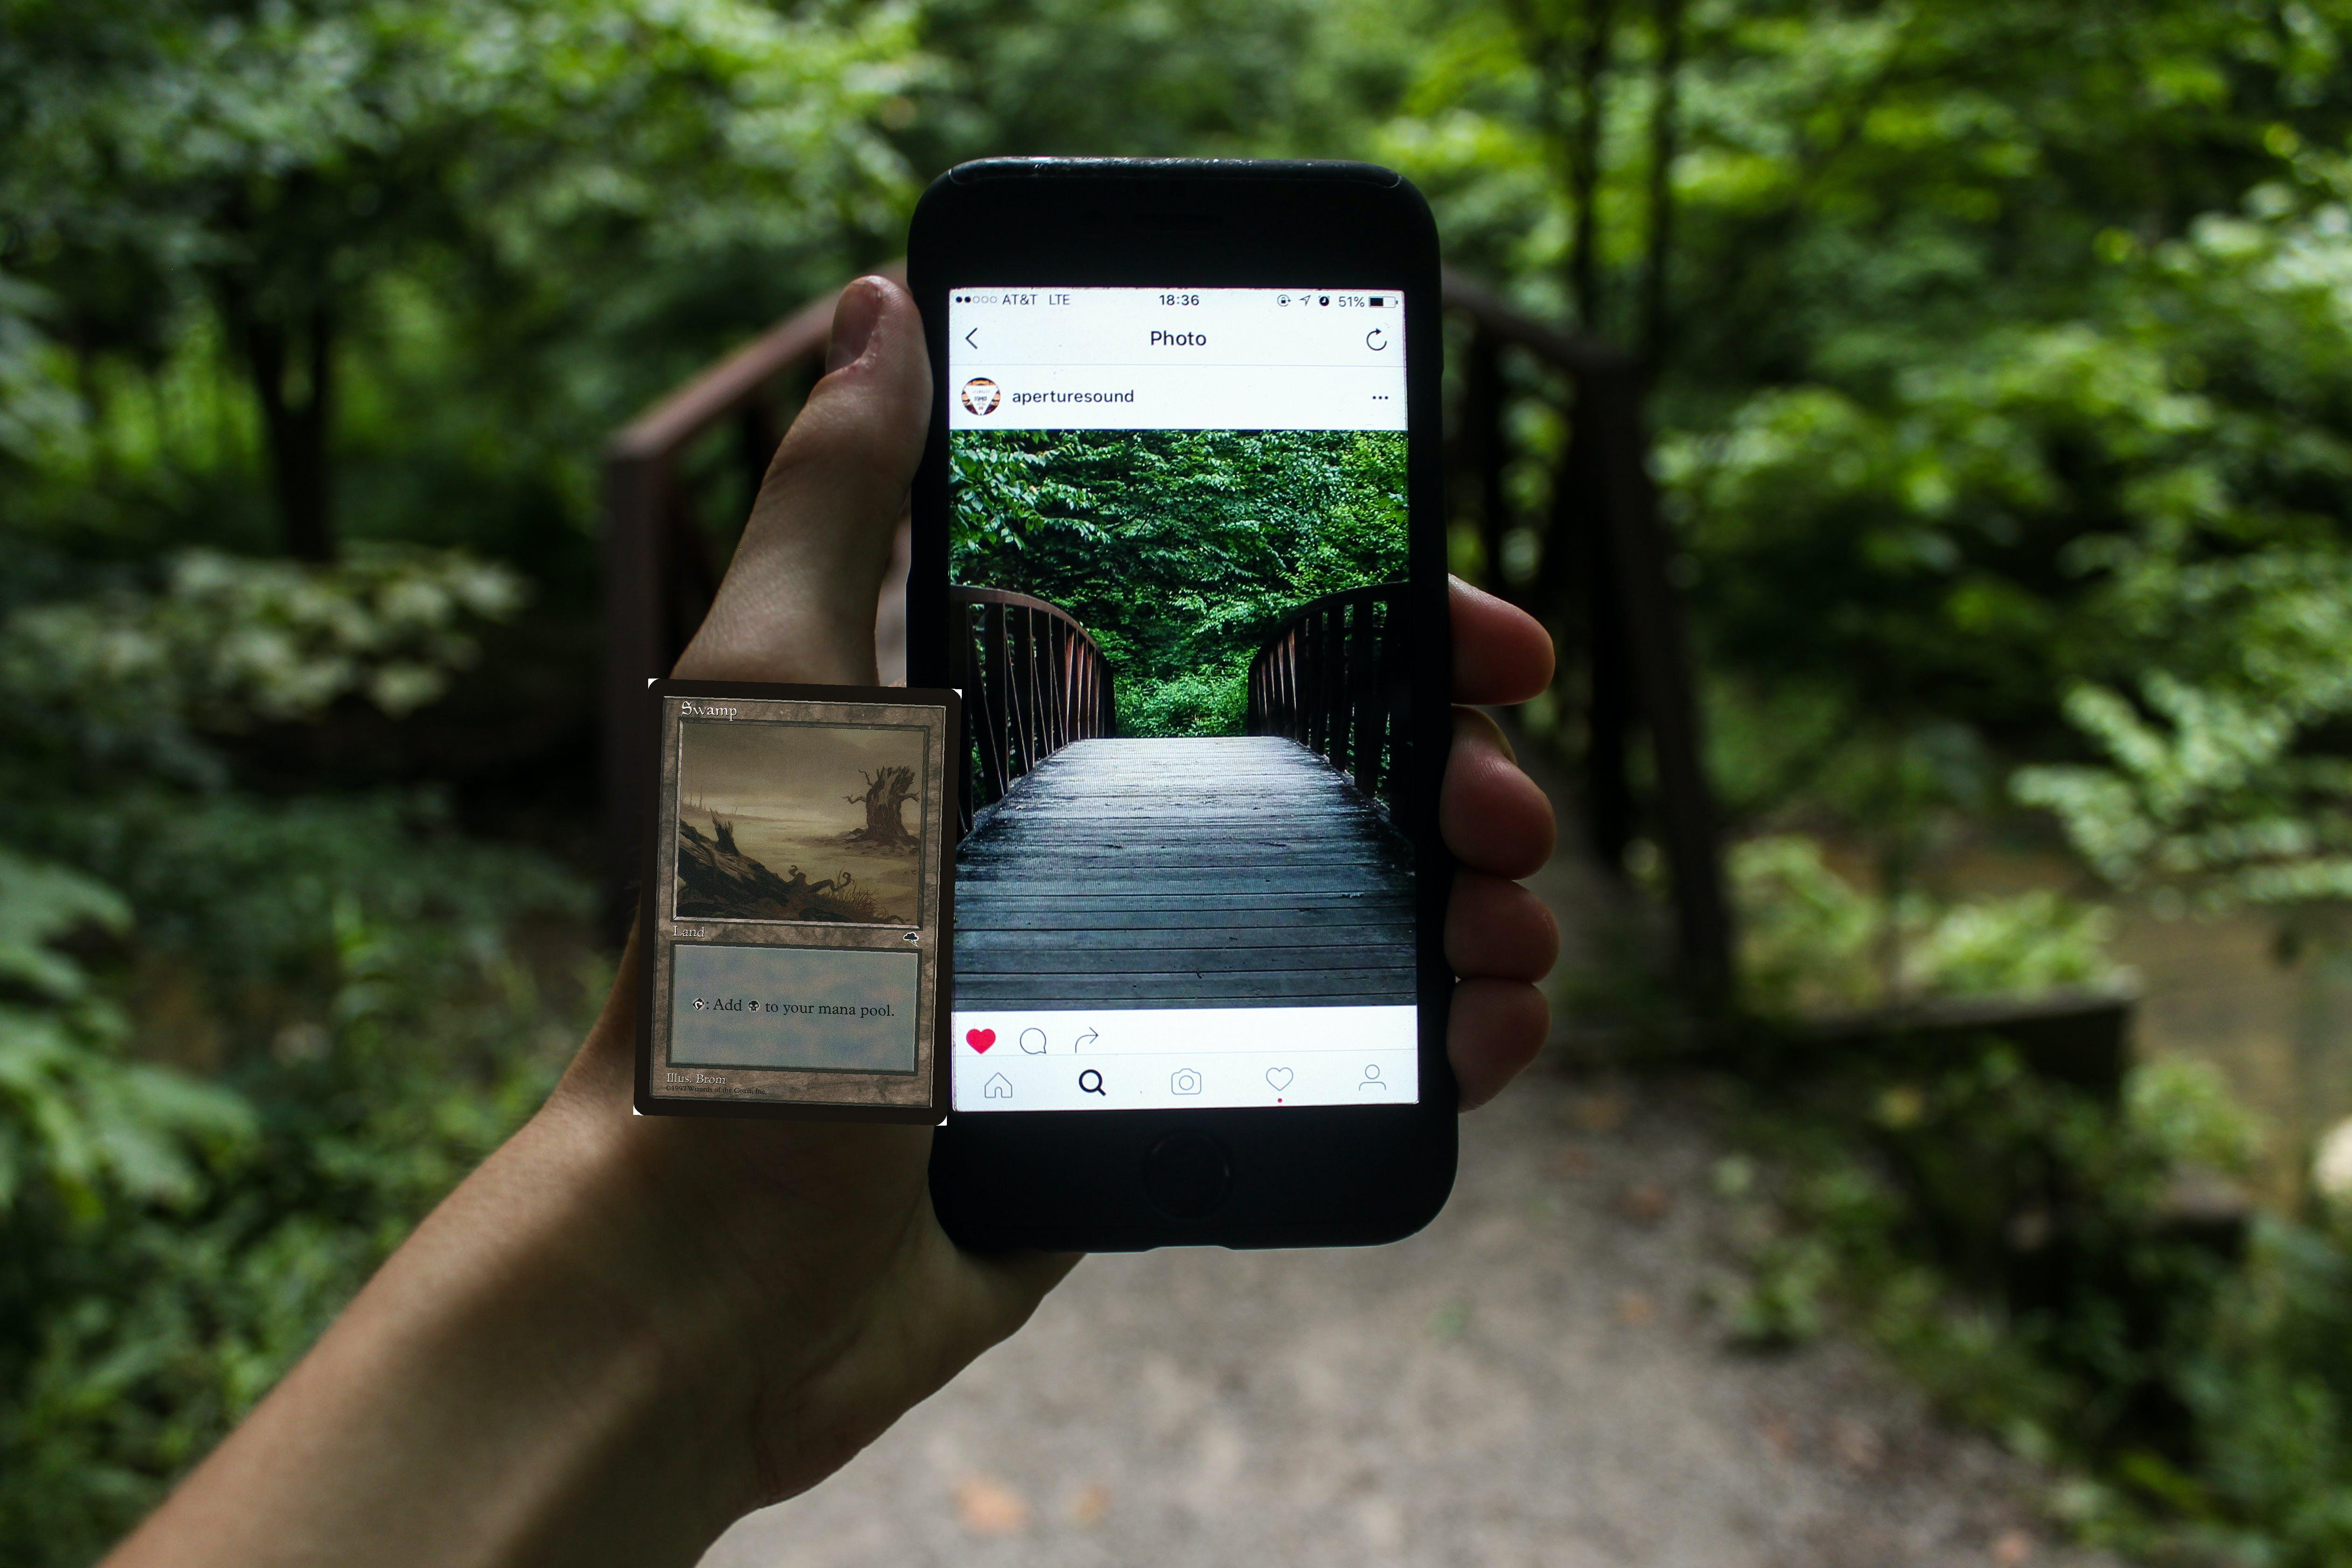mtgCard: (633, 677, 962, 1125)
